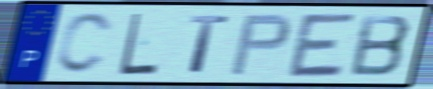B: (347, 13, 414, 78)
C: (53, 10, 116, 77)
E: (285, 11, 360, 80)
L: (117, 11, 161, 77)
P: (227, 12, 293, 78)
T: (188, 13, 231, 75)
